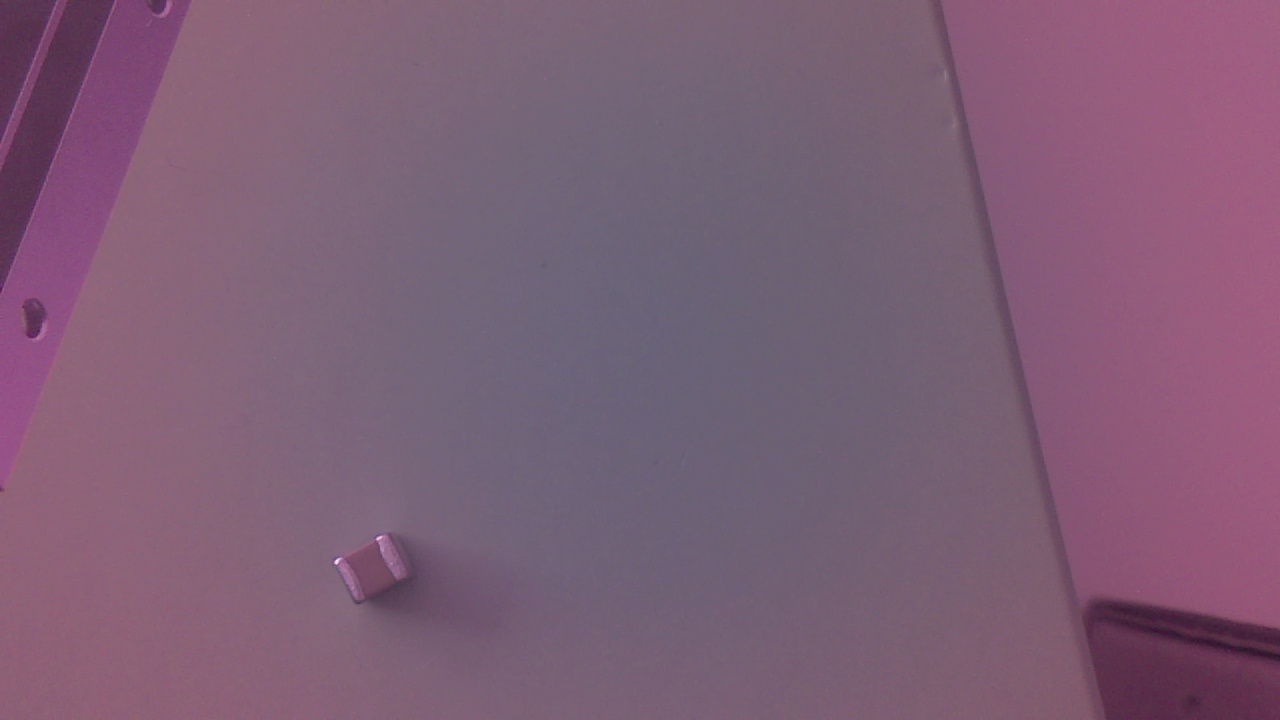Condensator: (334, 532, 421, 613)
